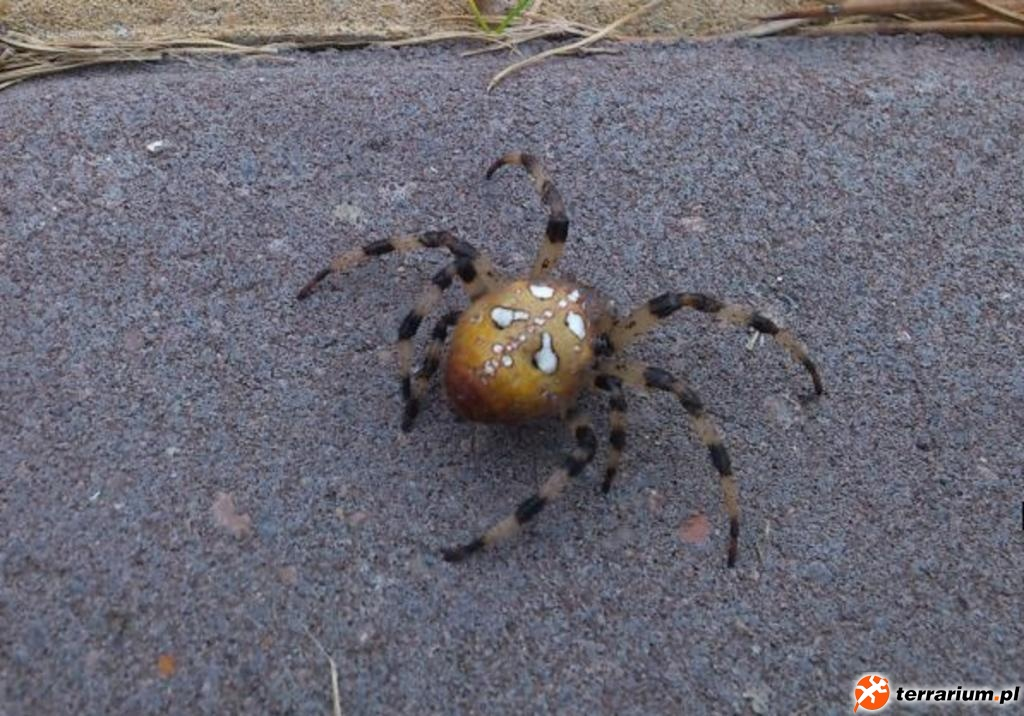spider: (272, 113, 845, 601)
